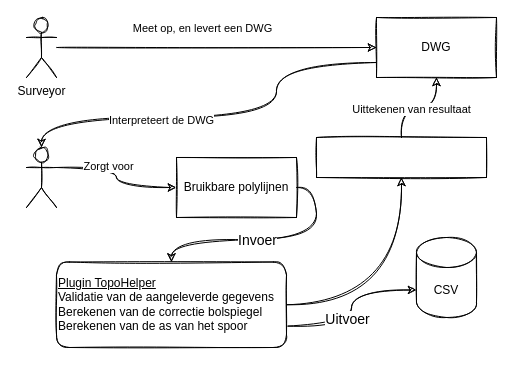
Image size: 514x365. Some labels were removed from this diagram. The centre of each missing label's shape, as x and y in pixels:
Designer: (41,177)
Polylijnen en punten, van de berekende oplossing: (401,157)
